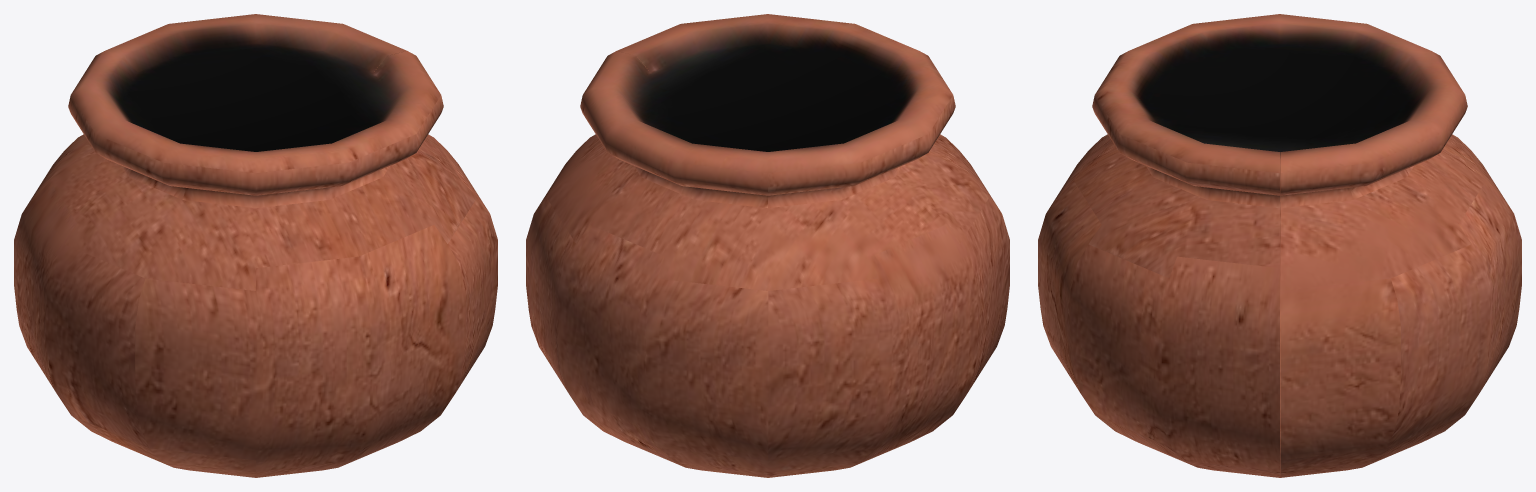
The model's file is vaso3.fbx.
3 renders of one model, left to right at view 1: azimuth 30°, elevation 25°; view 2: azimuth 150°, elevation 25°; view 3: azimuth 270°, elevation 25°, orthographic.
Visible parts, largest first — view 1: Circle; view 2: Circle; view 3: Circle.
Boxes of the visible parts, left/top/right/bottom form: Circle: left=14, top=14, right=497, bottom=477; Circle: left=526, top=14, right=1009, bottom=477; Circle: left=1038, top=14, right=1521, bottom=477.
Bounding box in the file's own units: 67.7 × 55.11 × 67.7.
